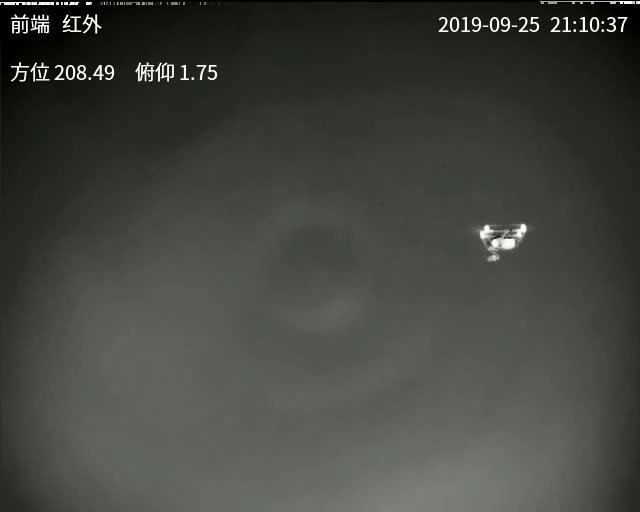uav: (476, 223, 529, 267)
